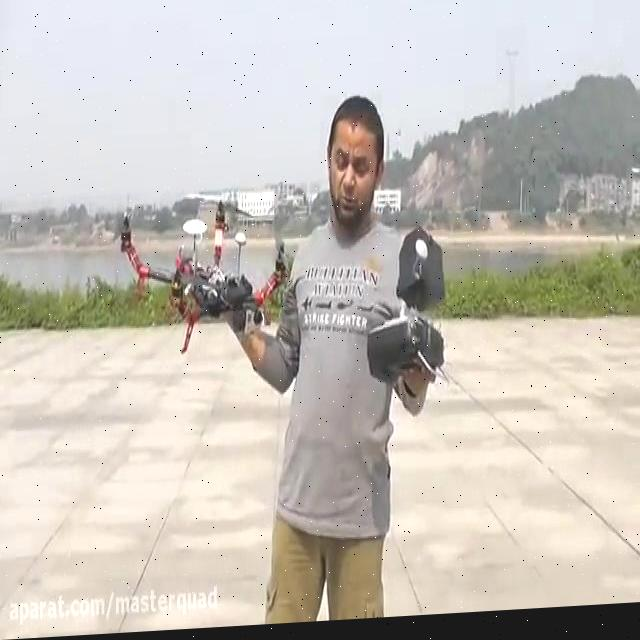drone: (112, 196, 291, 359)
